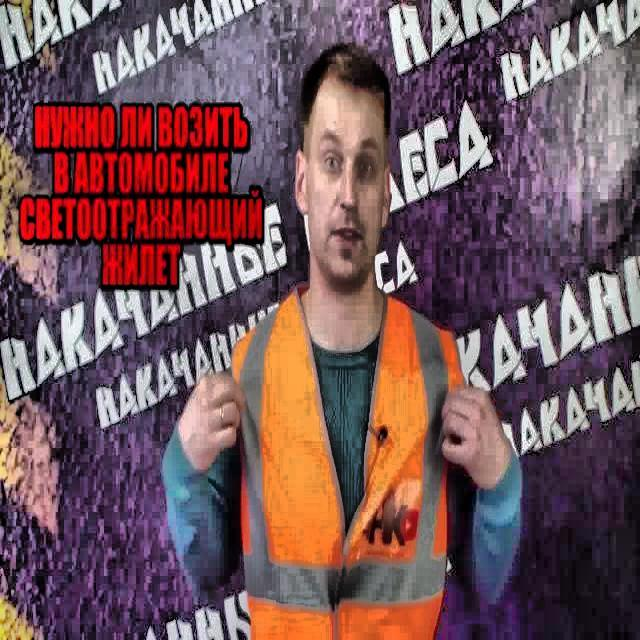safety_jacket: (226, 307, 458, 639)
